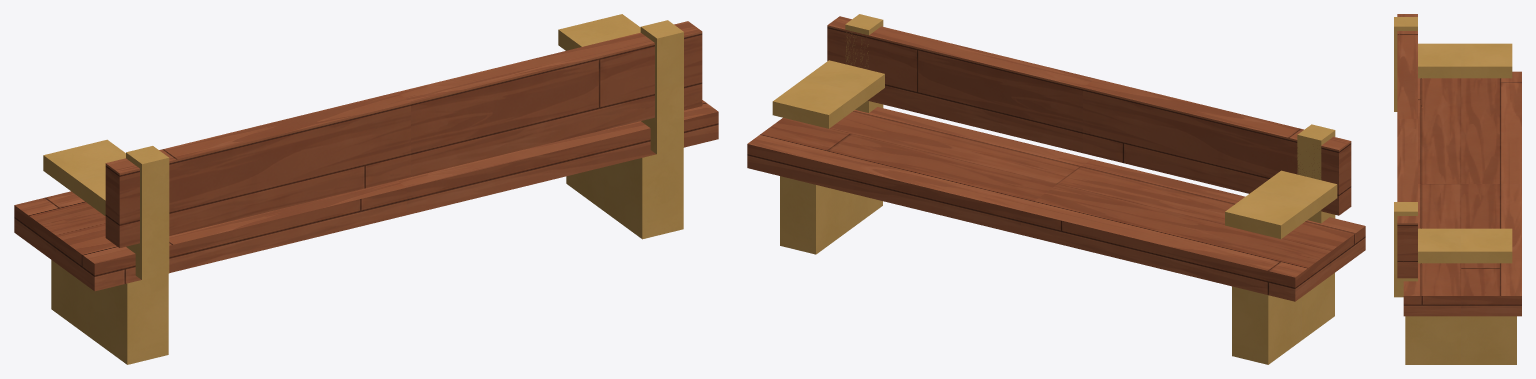
Rendered from SM_Theater_Prop_Bench.fbx.
3 views of the same model, side by side, from view 1: azimuth 30°, elevation 25°; view 2: azimuth 150°, elevation 25°; view 3: azimuth 270°, elevation 25° (orthographic). The views are drawn at different scales.
Parts seen in each view (by area): view 1: SM_Theater_Prop_Bench_LOD0; view 2: SM_Theater_Prop_Bench_LOD0; view 3: SM_Theater_Prop_Bench_LOD0.
Part boxes in pixels (<box>): SM_Theater_Prop_Bench_LOD0: <box>14,14,718,364</box>; SM_Theater_Prop_Bench_LOD0: <box>747,14,1365,364</box>; SM_Theater_Prop_Bench_LOD0: <box>1394,14,1521,364</box>.
Size of what is drawn, in the model's own units: 3.32 by 1.04 by 0.8.
